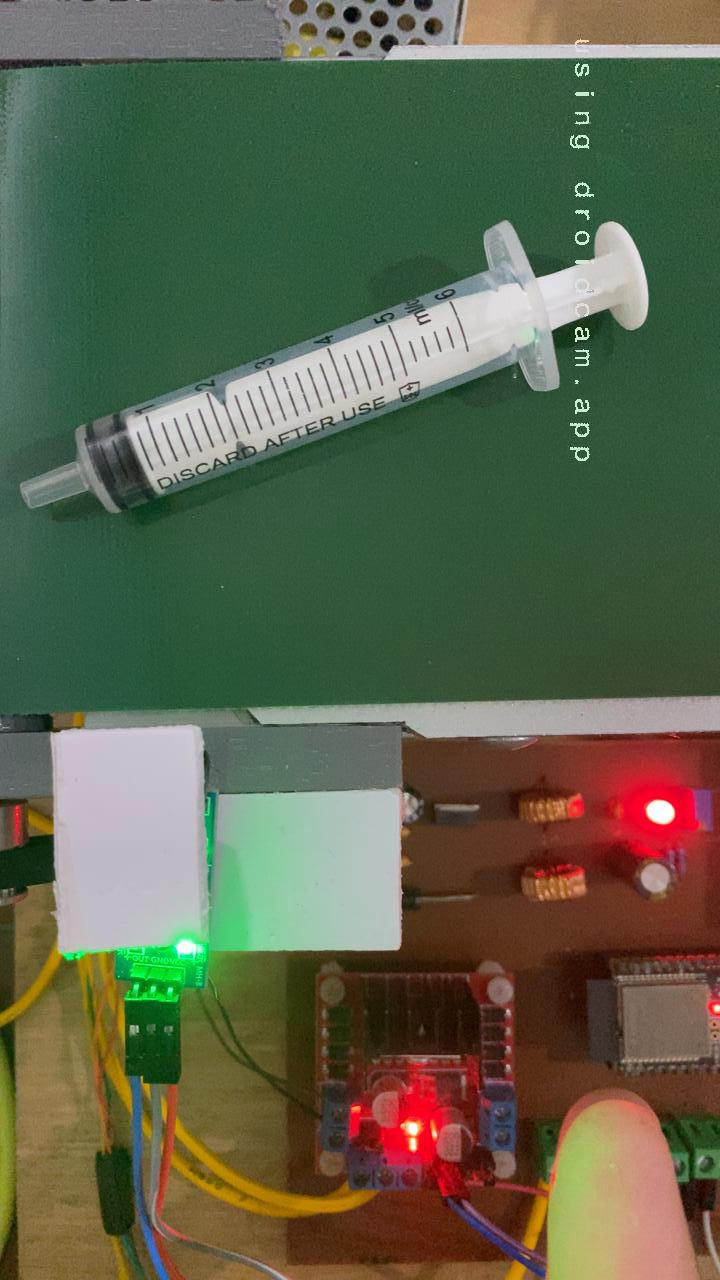syringe: (14, 214, 658, 520)
